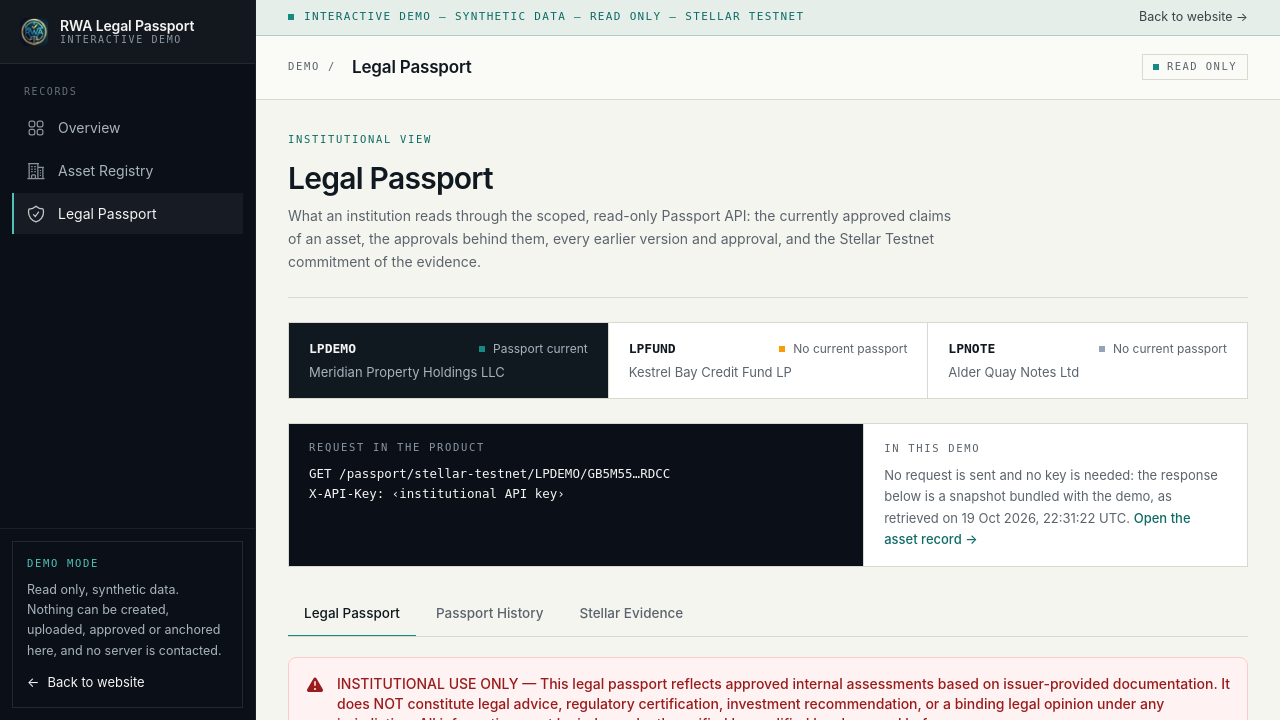
Public demo › serves the Legal Passport of an approved asset only, and switches between assets
Expected: the text with test id "demo-request" shows "X-API-Key: ‹institutional API key›", x1=309 y1=466 x2=670 y2=501
Click the radio button labelled "LPFUND No current passport Kestrel Bay Credit Fund LP".
click(768, 361)  # box x1=609 y1=323 x2=927 y2=398
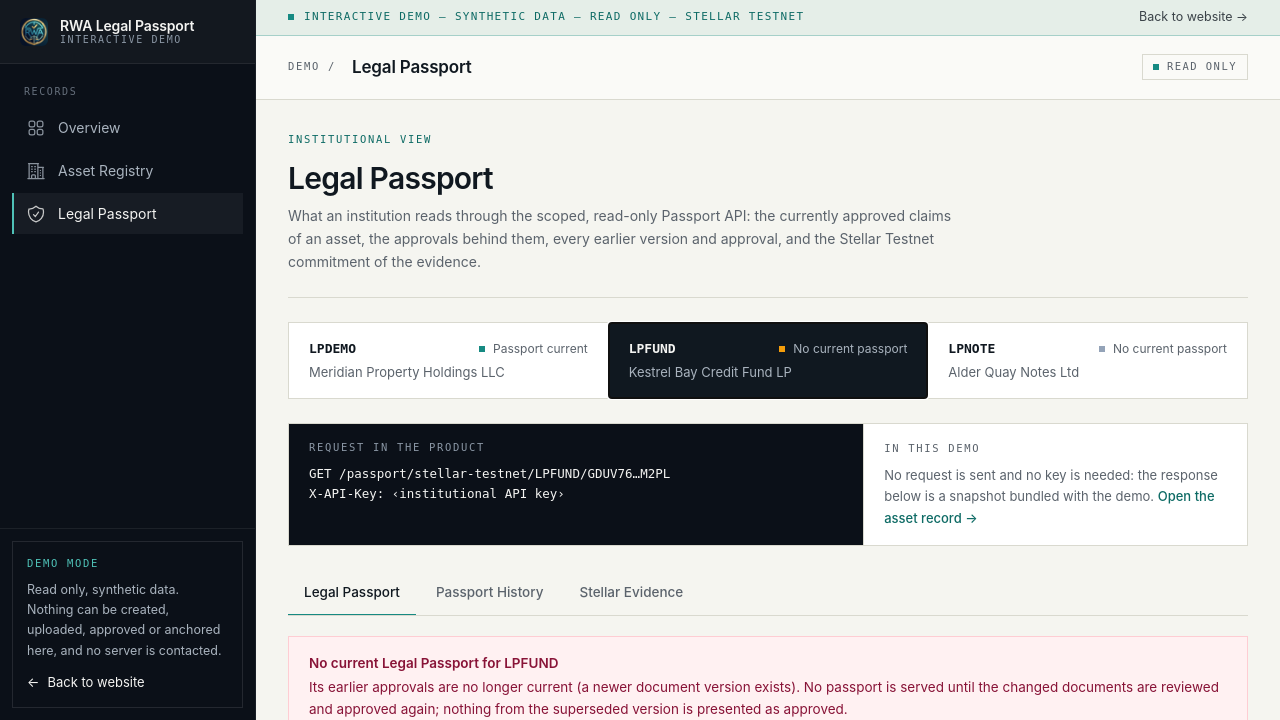
Now the element with test id "demo-no-passport" shows "a newer document version exists", box x1=582 y1=679 x2=791 y2=695
Click the tab "Passport History".
click(490, 593)  # box x1=420 y1=570 x2=560 y2=616
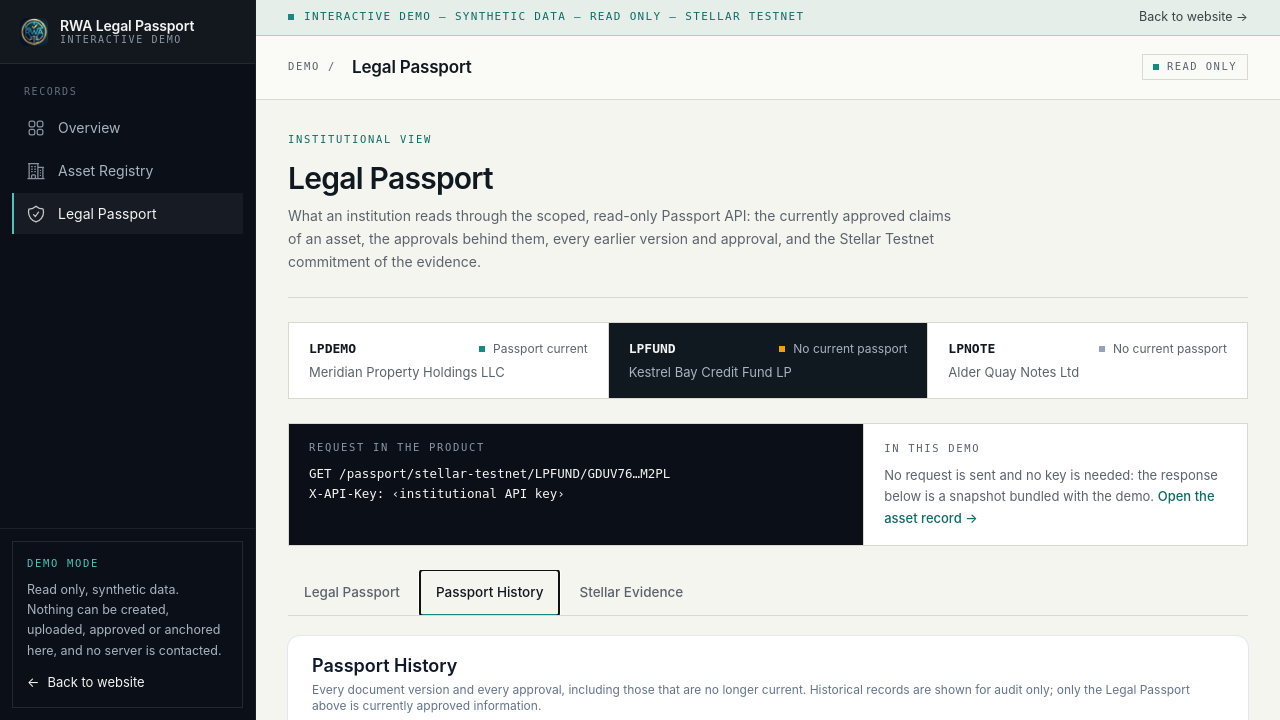
Click the radio button labelled "LPNOTE No current passport Alder Quay Notes Ltd".
click(972, 349)  # box x1=928 y1=323 x2=1247 y2=398
(page scrolled)
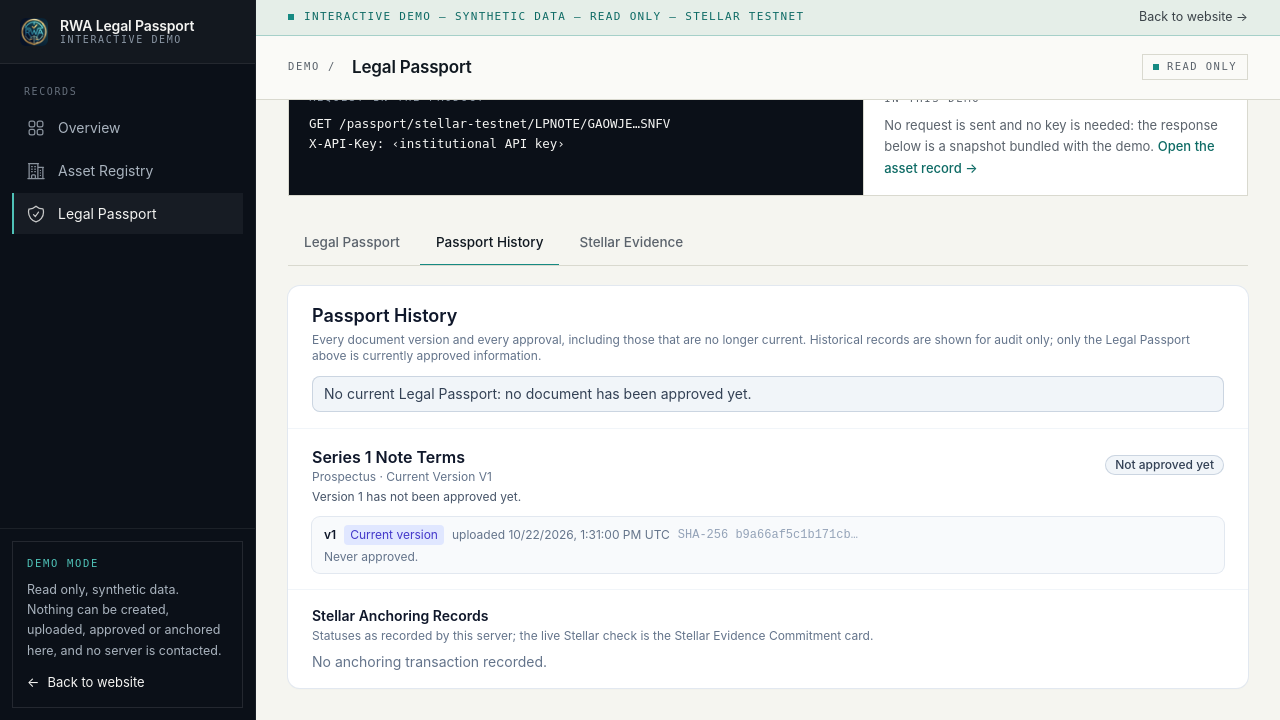
Now the text with test id "history-requirement" reads "Not approved yet", box x1=1115 y1=457 x2=1214 y2=472
